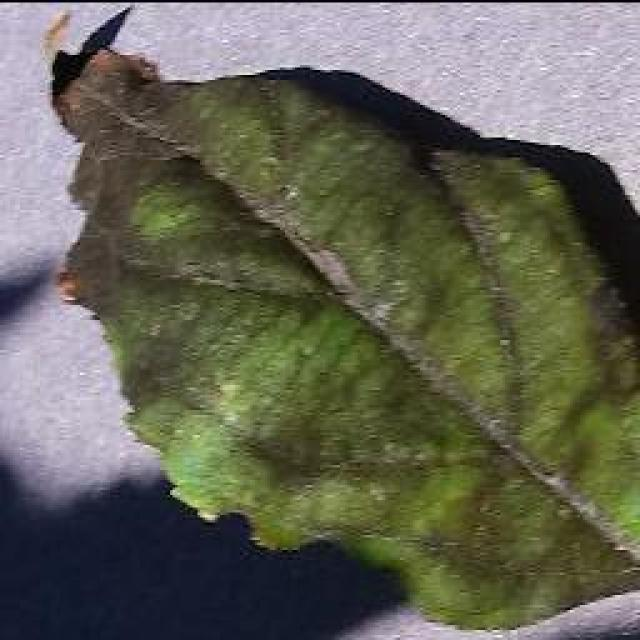apple scab disease: (38, 5, 638, 630)
